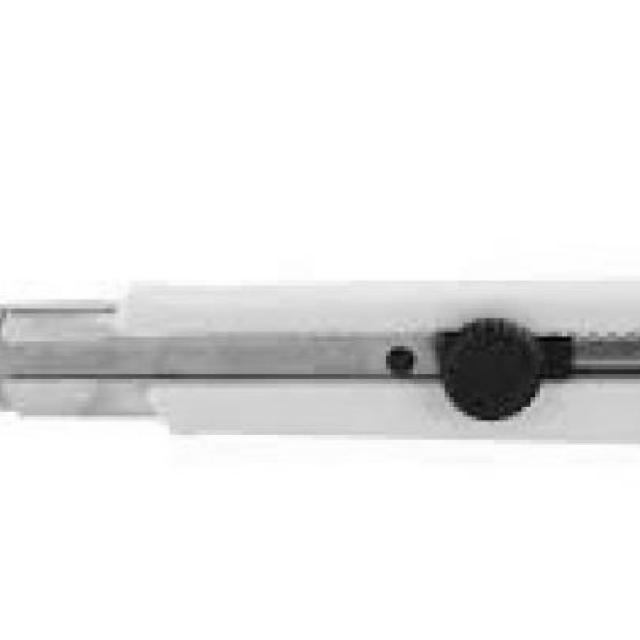estilete: (0, 280, 640, 442)
